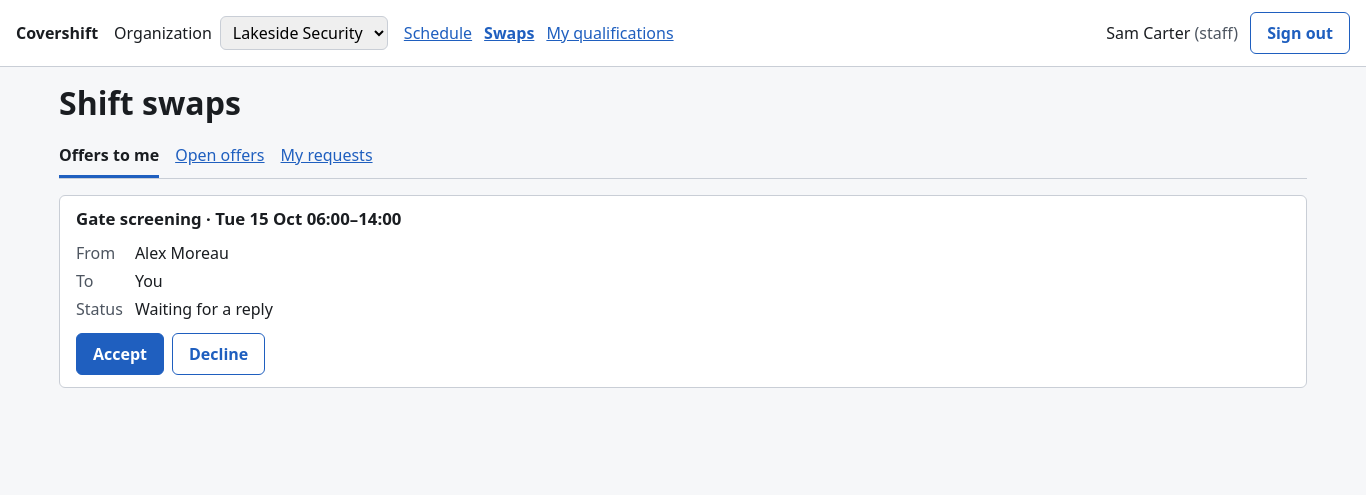
Test case: SwapsPage › a 409 SWAP_CONFLICT shows its title and the API reason verbatim
Click the button "Accept". click: (120, 354)
box: x1=76 y1=333 x2=164 y2=375
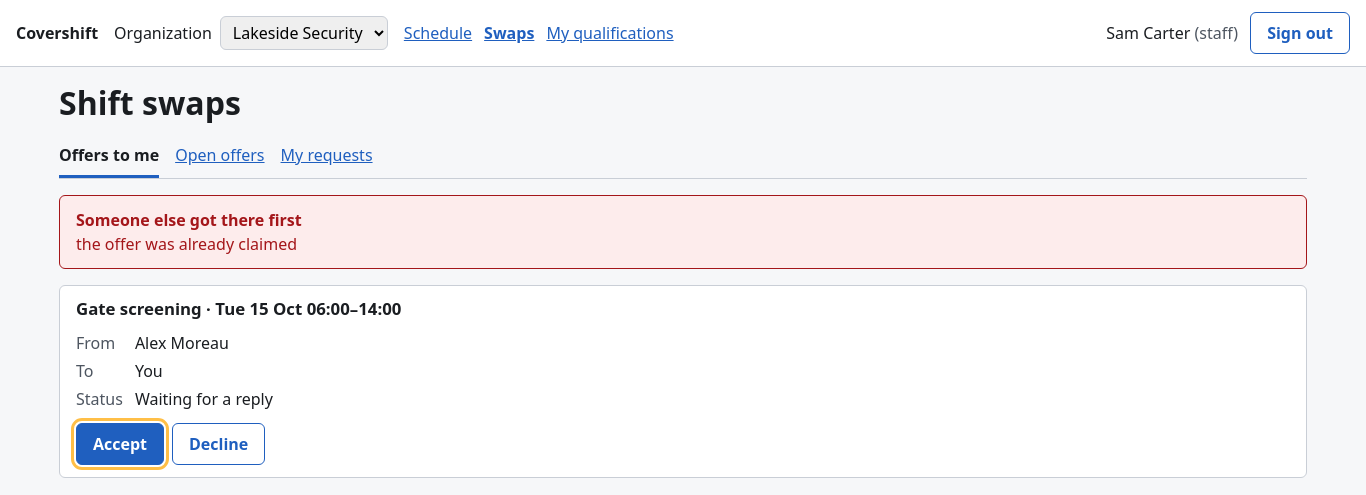
Now the message shows "Someone else got there first", box x1=76 y1=209 x2=302 y2=231
Now the message shows "the offer was already claimed", box x1=76 y1=233 x2=297 y2=255
